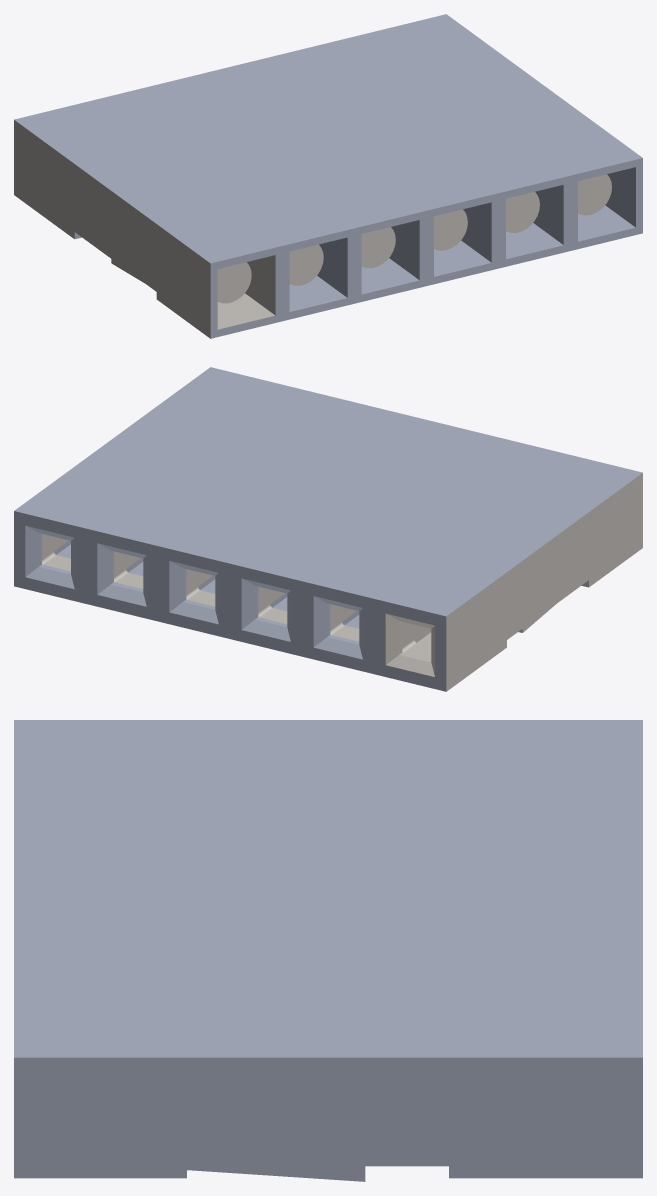
3 renders of one model, top to bottom at view 1: azimuth 30°, elevation 25°; view 2: azimuth 150°, elevation 25°; view 3: azimuth 270°, elevation 25°, orthographic. The views are drawn at different scales.
Parts seen in each view (by area): view 1: DS1071-1x6; view 2: DS1071-1x6; view 3: DS1071-1x6.
Boxes of the visible parts, <box> form: DS1071-1x6: <box>14,14,642,338</box>; DS1071-1x6: <box>14,367,642,691</box>; DS1071-1x6: <box>14,720,642,1181</box>.
Size of the model in its own units: 0.0154 by 0.00281 by 0.0121.
